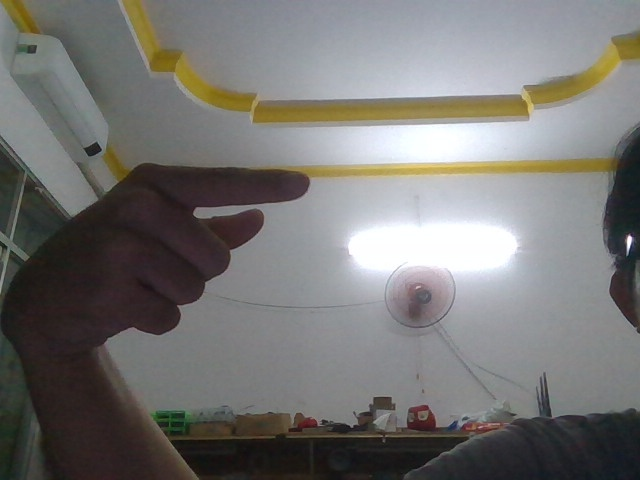turn_left: (1, 150, 314, 359)
